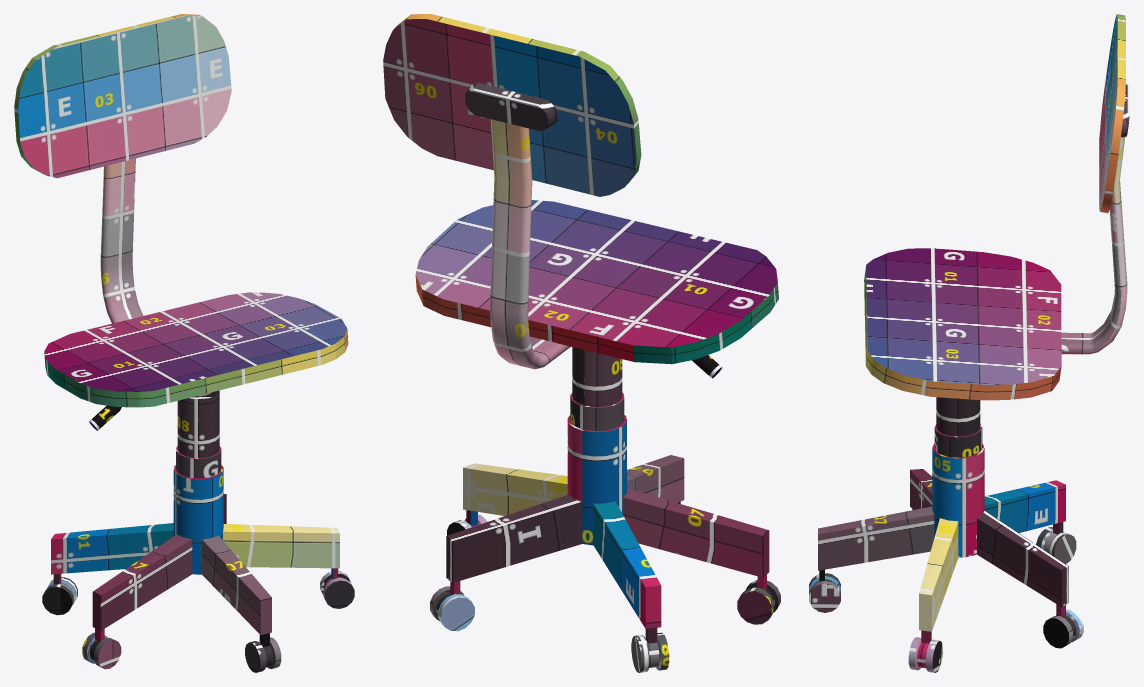
File: ChairUV.fbx
The picture shows the model from 3 angles, left to right: view 1: azimuth 30°, elevation 25°; view 2: azimuth 150°, elevation 25°; view 3: azimuth 270°, elevation 25°; orthographic projection. The views are drawn at different scales.
Parts seen in each view (by area): view 1: ChairUpdate2; view 2: ChairUpdate2; view 3: ChairUpdate2.
Boxes of the visible parts, x1,y1,x2,y2 form: ChairUpdate2: [14, 14, 354, 672]; ChairUpdate2: [383, 14, 780, 672]; ChairUpdate2: [809, 14, 1129, 672].
Bounding box in the file's own units: 47.93 × 90.5 × 47.23.
1 material, 1 textured.
